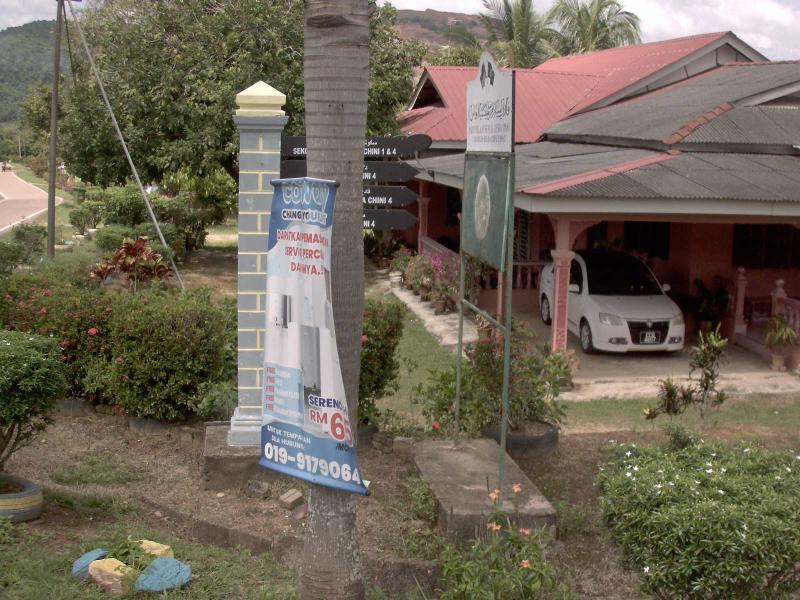ads_sign: (232, 161, 377, 511)
